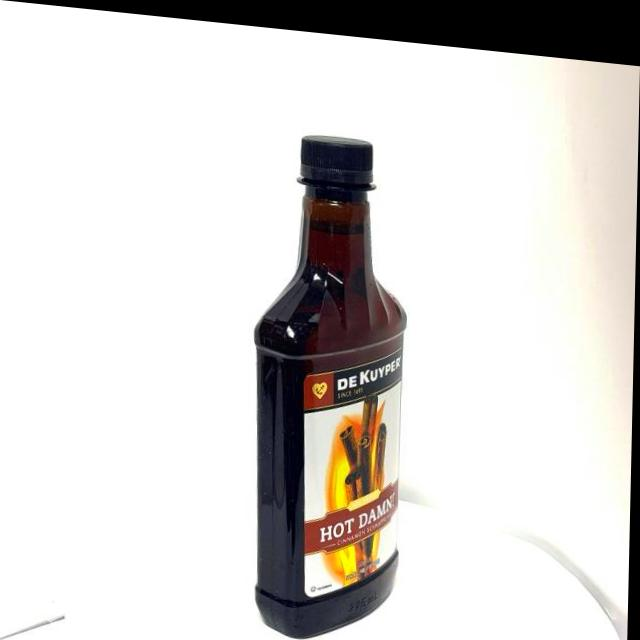DEKUYPER HOT DAMN 100 375ML: (253, 128, 409, 635)
